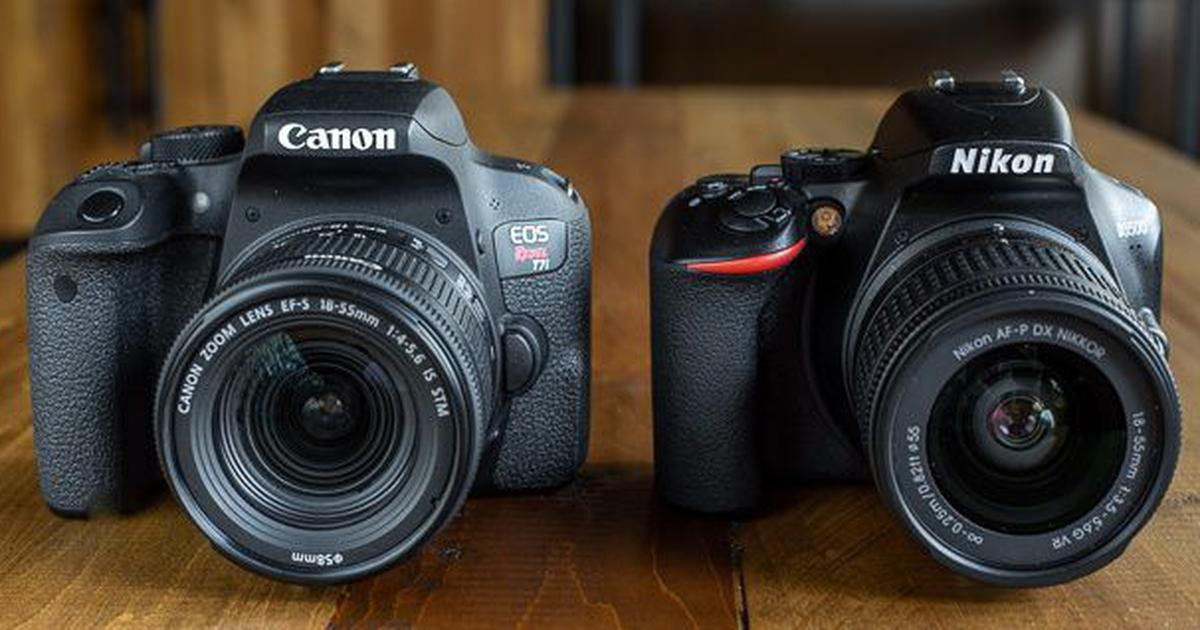camera: (21, 63, 594, 585), (647, 78, 1185, 595)
